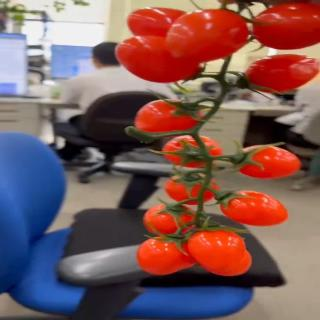tomato: (161, 10, 252, 66), (115, 37, 204, 85), (252, 0, 319, 49), (243, 53, 320, 94), (187, 227, 247, 277), (219, 190, 290, 228), (138, 234, 202, 276), (125, 6, 189, 46), (233, 146, 304, 182), (134, 98, 203, 135), (162, 134, 224, 167), (142, 202, 198, 237), (163, 171, 219, 204)
